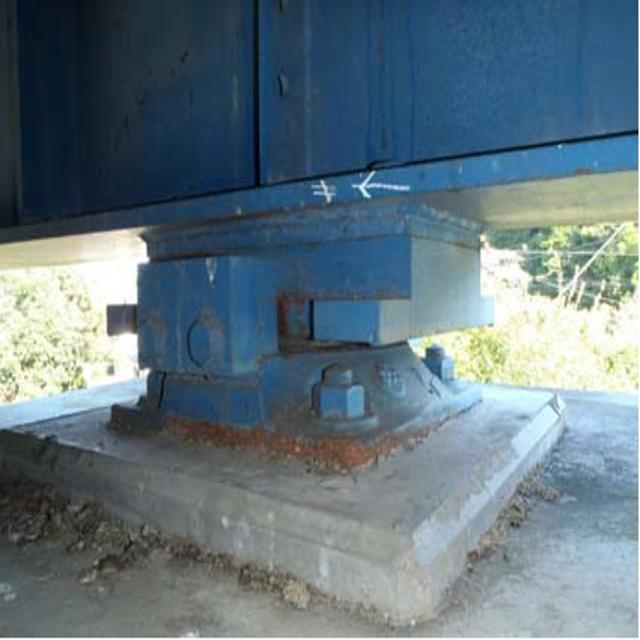corrosion: (123, 380, 424, 487)
